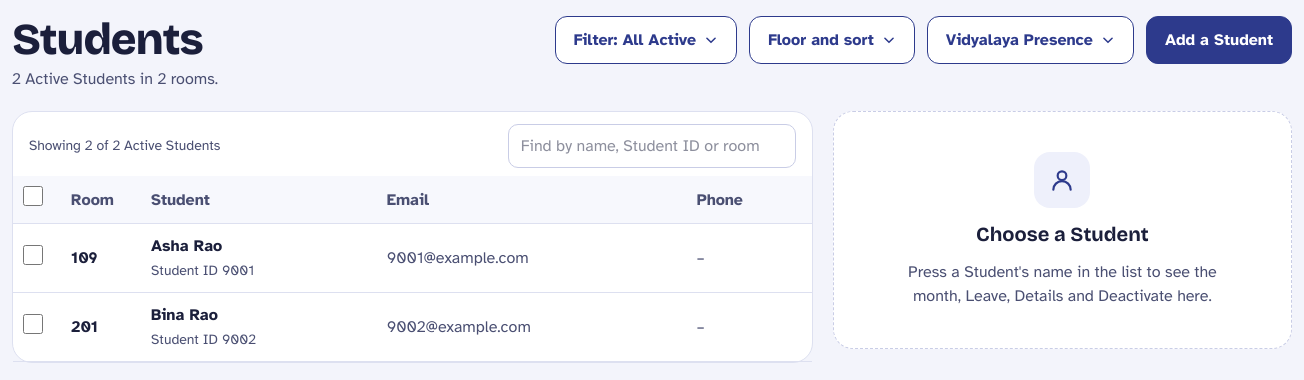
Students page › says so when no Student matches the search
This screenshot has width=1304, height=380.
Expected: the button "Bina Rao" is shown, x1=151 y1=303 x2=218 y2=327
Type "nobody" into the search field named "Search by name, Student ID or room".
click(652, 146); type("nobody")  # box x1=508 y1=124 x2=796 y2=168
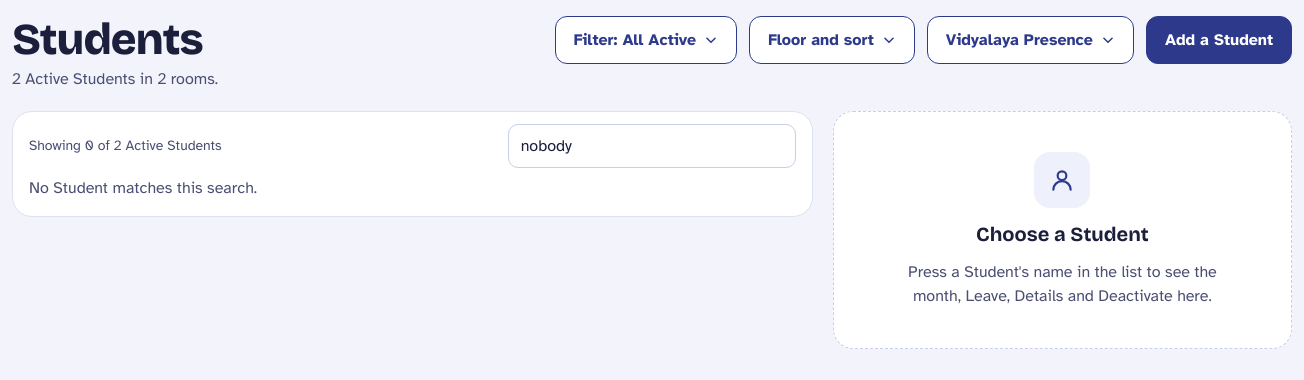
Result: the text "No Student matches this search." is shown at x1=29 y1=178 x2=257 y2=198
